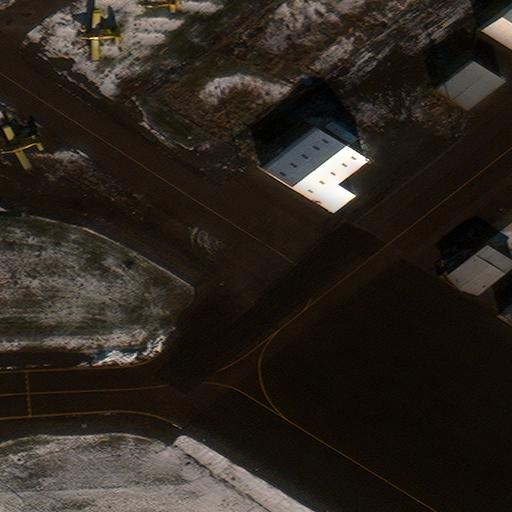Medium Civil Transport: (77, 11, 121, 61)
Small Civil Transport: (0, 128, 41, 169)
